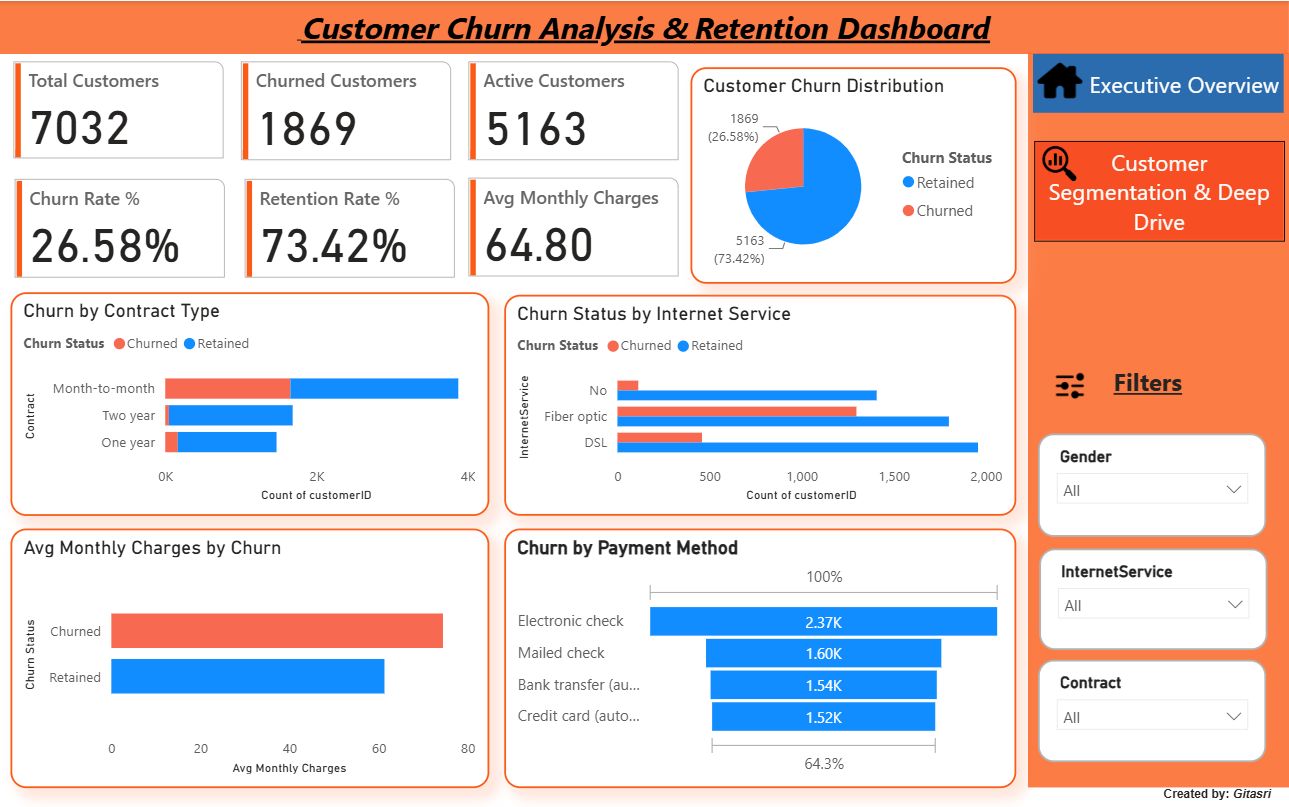

The dashboard page shown, as its layout file describes it:
{"tool":"powerbi","page":{"name":"Dashboard","canvas":[1150,720],"ordinal":0},"visuals":[{"type":"cardVisual","fields":{"Data":["Telco_Customer_Churn_Dataset.Total Customers"]},"box":[9.1,49.5,197,96.5],"z":0,"group":"g2"},{"type":"clusteredBarChart","title":"Avg Monthly Charges by Churn","fields":{"Category":["Telco_Customer_Churn_Dataset.Churn Status"],"Y":["Telco_Customer_Churn_Dataset.Avg Monthly Charges"]},"box":[10.7,470.2,426.2,231],"z":0},{"type":"barChart","title":"Churn by Contract Type","fields":{"Category":["Telco_Customer_Churn_Dataset.Contract"],"Y":["Count(Telco_Customer_Churn_Dataset.customerID)"],"Series":["Telco_Customer_Churn_Dataset.Churn Status"]},"box":[10.7,259.5,426.2,198.8],"z":1000},{"type":"cardVisual","fields":{"Data":["Telco_Customer_Churn_Dataset.Churned Customers"]},"box":[211.7,49.5,197,98],"z":2000,"group":"g2"},{"type":"funnel","title":"Churn by Payment Method","fields":{"Category":["Telco_Customer_Churn_Dataset.PaymentMethod"],"Y":["Count(Telco_Customer_Churn_Dataset.customerID)"]},"box":[451.2,470.2,456,231],"z":2000},{"type":"cardVisual","fields":{"Data":["Telco_Customer_Churn_Dataset.Active Customers"]},"box":[414.4,49.5,197,98.9],"z":3000,"group":"g2"},{"type":"clusteredBarChart","title":"Churn Status by Internet Service","fields":{"Category":["Telco_Customer_Churn_Dataset.InternetService"],"Y":["Count(Telco_Customer_Churn_Dataset.customerID)"],"Series":["Telco_Customer_Churn_Dataset.Churn Status"]},"box":[451.2,261.9,456,196.4],"z":3000},{"type":"slicer","fields":{"Values":["Telco_Customer_Churn_Dataset.Contract"]},"box":[926.2,587.1,203.5,91],"z":4000,"group":"g1"},{"type":"textbox","box":[1032.5,690.5,106.7,29.7],"z":4000},{"type":"shape","box":[916.9,47.1,232.8,653.9],"z":5000},{"type":"cardVisual","fields":{"Data":["Telco_Customer_Churn_Dataset.Churn Rate"]},"box":[10.7,153.8,197,98.8],"z":6000,"group":"g2"},{"type":"textbox","box":[988.1,319,89.3,41.7],"z":6000},{"type":"group","id":"g1","title":"Group 1","box":[926,385.7,204.8,292.4],"z":7000},{"type":"slicer","fields":{"Values":["Telco_Customer_Churn_Dataset.InternetService"]},"box":[927.2,488.4,203.6,90.5],"z":7000,"group":"g1"},{"type":"pieChart","title":"Customer Churn Distribution","fields":{"Category":["Telco_Customer_Churn_Dataset.Churn Status"],"Y":["CountNonNull(Telco_Customer_Churn_Dataset.customerID)"]},"box":[616.5,59.1,290.8,193],"z":8000},{"type":"group","id":"g2","title":"Group 2","box":[9.1,49.5,602.3,203.1],"z":9000},{"type":"actionButton","box":[921.7,47.1,223.2,53.1],"z":10000},{"type":"cardVisual","fields":{"Data":["Telco_Customer_Churn_Dataset.Retention Rate %"]},"box":[214.9,153.8,197,98.8],"z":10000,"group":"g2"},{"type":"actionButton","box":[922.9,124.3,223.2,89.3],"z":11000},{"type":"cardVisual","fields":{"Data":["Telco_Customer_Churn_Dataset.Avg Monthly Charges"]},"box":[414.3,152.7,197,98.8],"z":11000,"group":"g2"},{"type":"slicer","fields":{"Values":["Telco_Customer_Churn_Dataset.gender"]},"box":[926,385.7,203.6,91.7],"z":11000,"group":"g1"},{"type":"image","box":[935.7,319,36.9,46.4],"z":12000},{"type":"image","box":[922.9,123.1,44.6,42.2],"z":14000},{"type":"textbox","box":[0,0,1149.7,47.1],"z":14500}]}

Visuals, with their boxes in screenshot pixels (x1, y1, x2, y2), scaled from the page's 1150x720 canvas onto the 1289x807 screenshot:
cardVisual - Telco_Customer_Churn_Dataset.Total Customers: l=10, t=55, r=231, b=164
"Avg Monthly Charges by Churn" clusteredBarChart: l=12, t=527, r=490, b=786
"Churn by Contract Type" barChart: l=12, t=291, r=490, b=514
cardVisual - Telco_Customer_Churn_Dataset.Churned Customers: l=237, t=55, r=458, b=165
"Churn by Payment Method" funnel: l=506, t=527, r=1017, b=786
cardVisual - Telco_Customer_Churn_Dataset.Active Customers: l=464, t=55, r=685, b=166
"Churn Status by Internet Service" clusteredBarChart: l=506, t=294, r=1017, b=514
slicer - Telco_Customer_Churn_Dataset.Contract: l=1038, t=658, r=1266, b=760
textbox: l=1157, t=774, r=1277, b=806
shape: l=1028, t=53, r=1288, b=786
cardVisual - Telco_Customer_Churn_Dataset.Churn Rate: l=12, t=172, r=233, b=283
textbox: l=1108, t=358, r=1208, b=404
"Group 1" group: l=1038, t=432, r=1267, b=760
slicer - Telco_Customer_Churn_Dataset.InternetService: l=1039, t=547, r=1267, b=649
"Customer Churn Distribution" pieChart: l=691, t=66, r=1017, b=283
"Group 2" group: l=10, t=55, r=685, b=283
actionButton: l=1033, t=53, r=1283, b=112
cardVisual - Telco_Customer_Churn_Dataset.Retention Rate %: l=241, t=172, r=462, b=283
actionButton: l=1034, t=139, r=1285, b=239
cardVisual - Telco_Customer_Churn_Dataset.Avg Monthly Charges: l=464, t=171, r=685, b=282
slicer - Telco_Customer_Churn_Dataset.gender: l=1038, t=432, r=1266, b=535
image: l=1049, t=358, r=1090, b=410
image: l=1034, t=138, r=1084, b=185
textbox: l=0, t=0, r=1288, b=53
